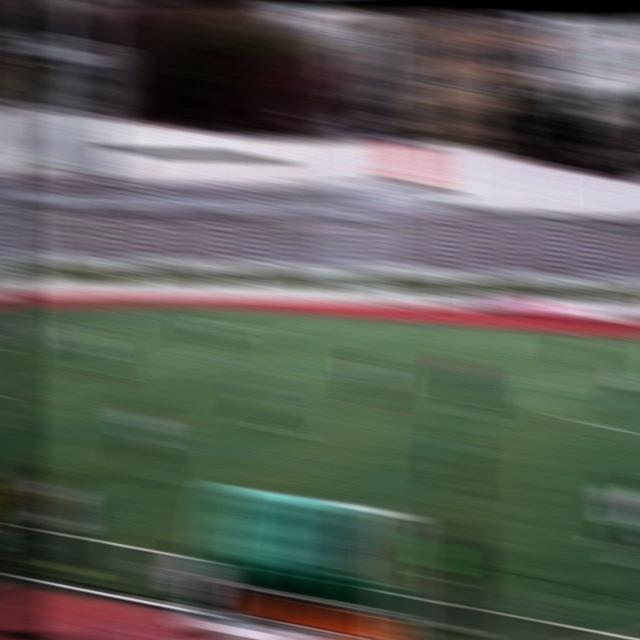bigarea_top_inner: (260, 318, 289, 337)
bigarea_top_outter: (115, 307, 143, 323)
corner: (178, 299, 206, 312)
smallarea_top_outter: (39, 316, 68, 332)
